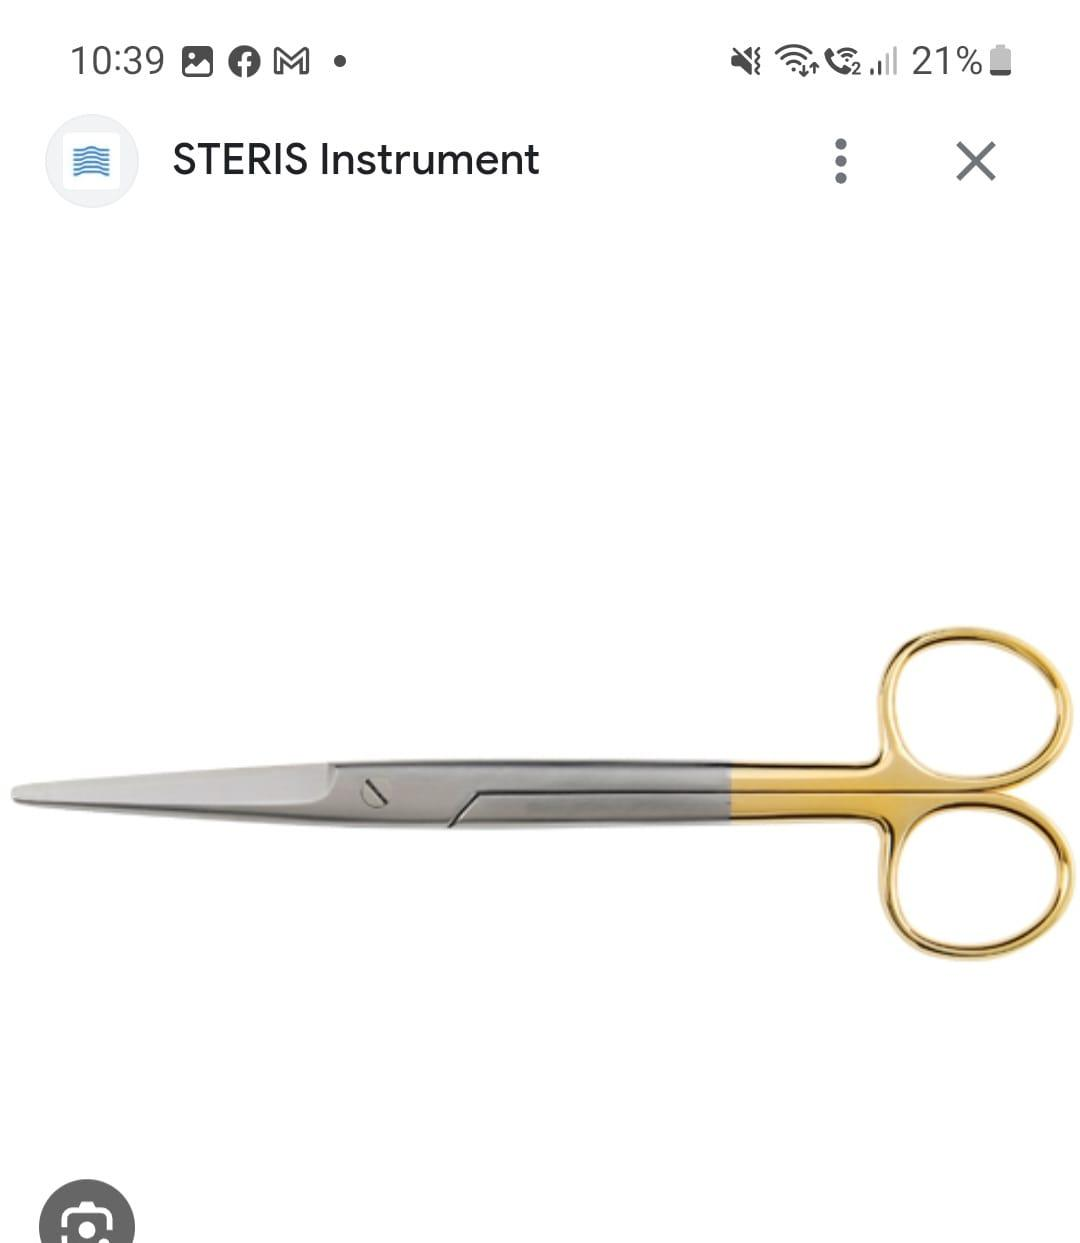Straight Mayo: (10, 618, 1074, 970)
